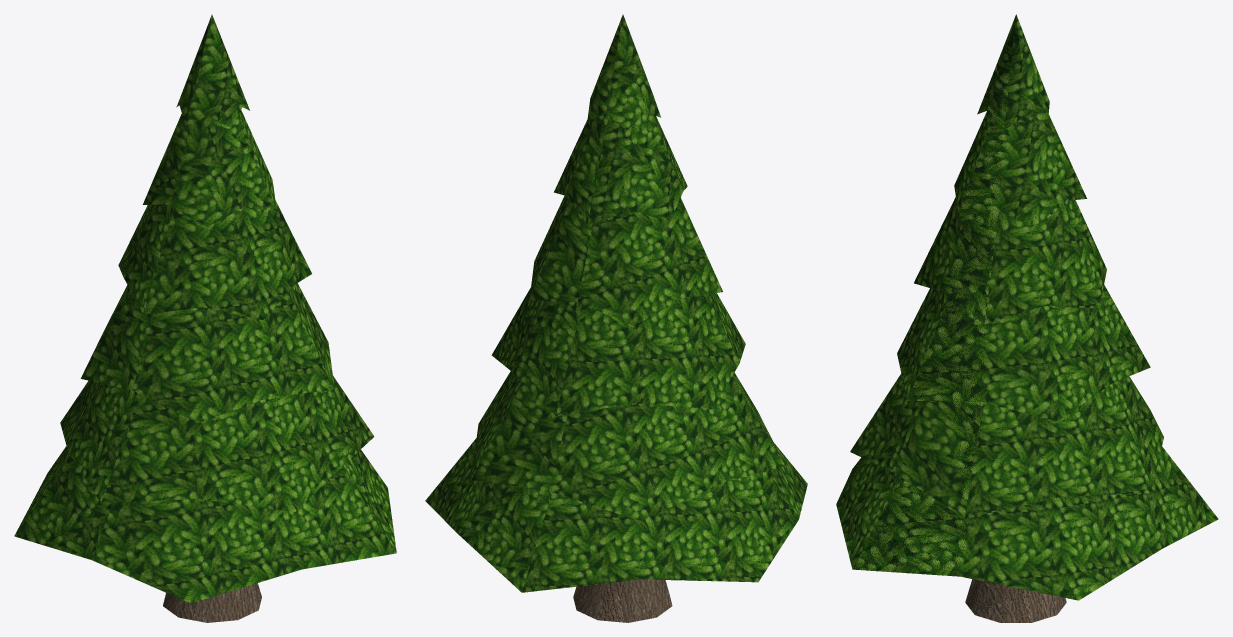
File: treefalls1.obj
3 views of the same model, side by side, from view 1: azimuth 30°, elevation 25°; view 2: azimuth 150°, elevation 25°; view 3: azimuth 270°, elevation 25° (orthographic).
Parts seen in each view (by area): view 1: Cylinder.002_Cylinder.013, Cylinder.001_Cylinder.012; view 2: Cylinder.002_Cylinder.013, Cylinder.001_Cylinder.012; view 3: Cylinder.002_Cylinder.013, Cylinder.001_Cylinder.012.
Boxes of the visible parts, x1,y1,x2,y2 form: Cylinder.002_Cylinder.013: [14, 14, 396, 603]; Cylinder.001_Cylinder.012: [163, 583, 261, 622]; Cylinder.002_Cylinder.013: [425, 14, 807, 592]; Cylinder.001_Cylinder.012: [573, 579, 672, 622]; Cylinder.002_Cylinder.013: [836, 14, 1218, 600]; Cylinder.001_Cylinder.012: [965, 579, 1066, 622].
Bounding box in the file's own units: 2.29 × 3.85 × 2.27.
